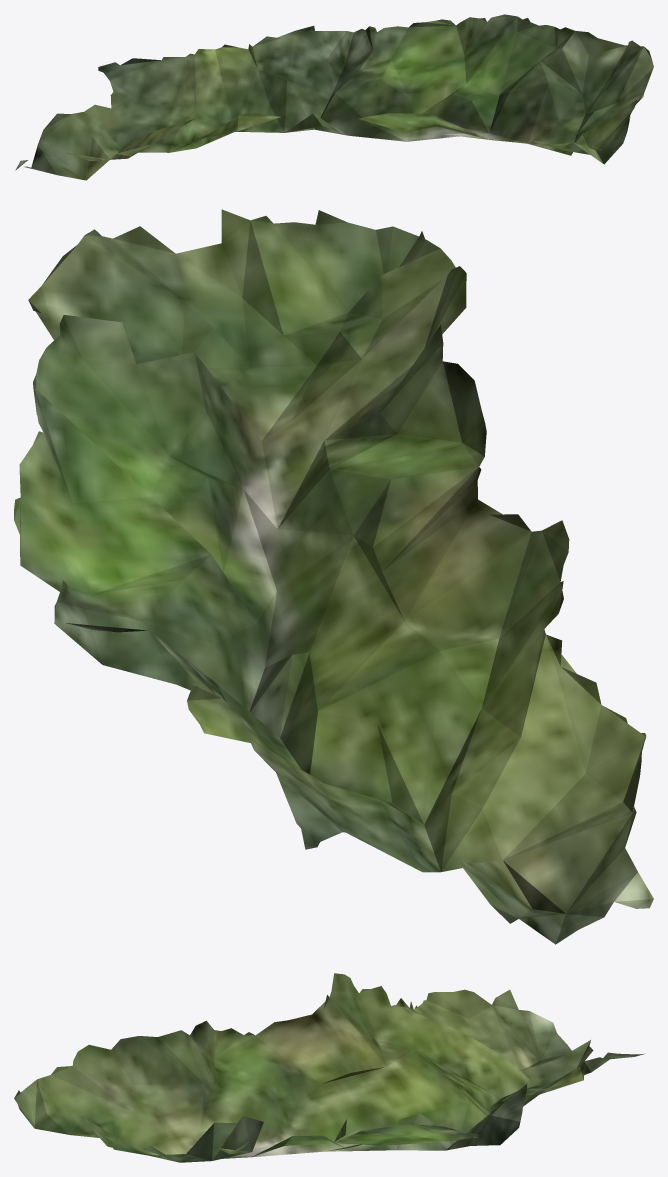
3 renders of one model, top to bottom at view 1: azimuth 30°, elevation 25°; view 2: azimuth 150°, elevation 25°; view 3: azimuth 270°, elevation 25°, orthographic. The views are drawn at different scales.
Bounding box in the file's own units: 651 × 199 × 675.
1 material, 1 textured.
